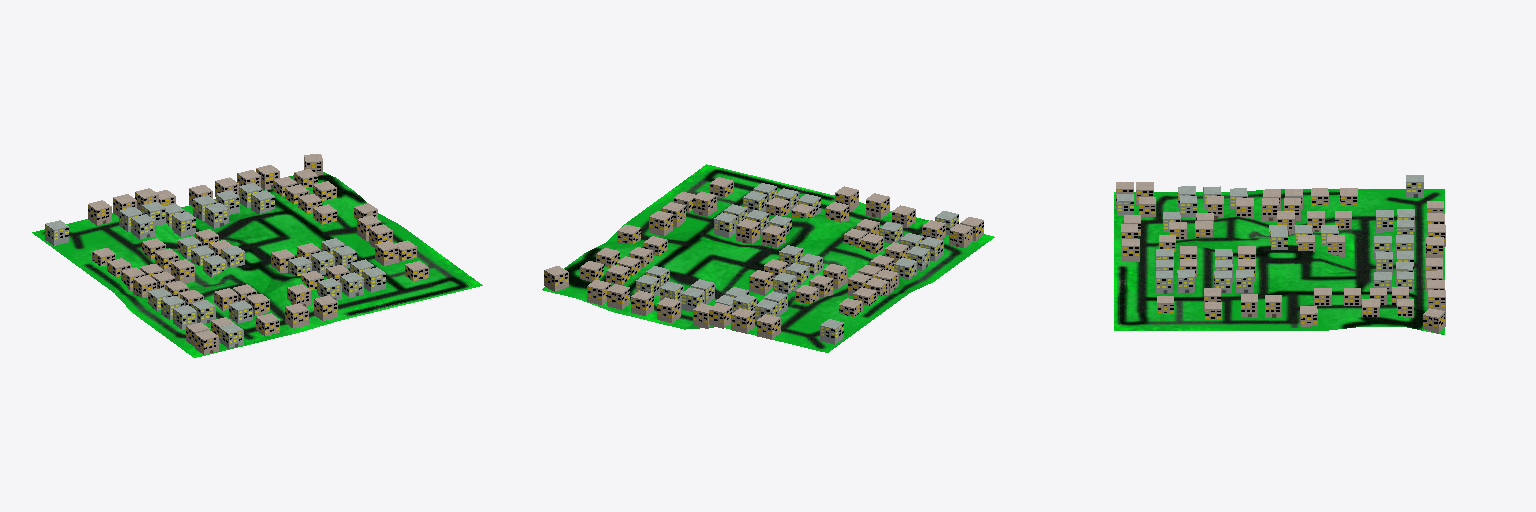
3 renders of one model, left to right at view 1: azimuth 30°, elevation 25°; view 2: azimuth 150°, elevation 25°; view 3: azimuth 270°, elevation 25°, orthographic.
Visible parts, largest first — view 1: Plane; view 2: Plane, Cube.078; view 3: Plane.
Part boxes in pixels (x1,y1,x2,y2): Plane: (32,172,482,357); Plane: (542,164,994,352); Cube.078: (544,266,568,291); Plane: (1114,189,1444,334).
Bounding box in the file's own units: 7.62 × 0.6826 × 7.57.
Materials: 2 (2 with a texture image).